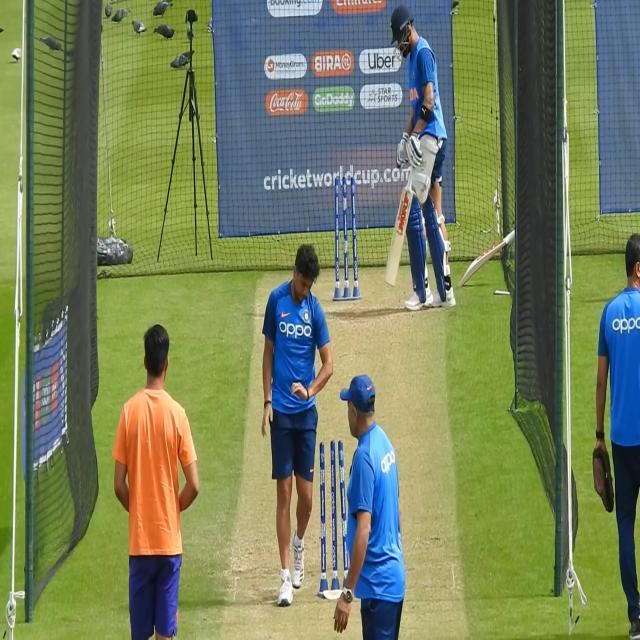stump: (317, 440, 349, 600), (331, 173, 362, 300)
